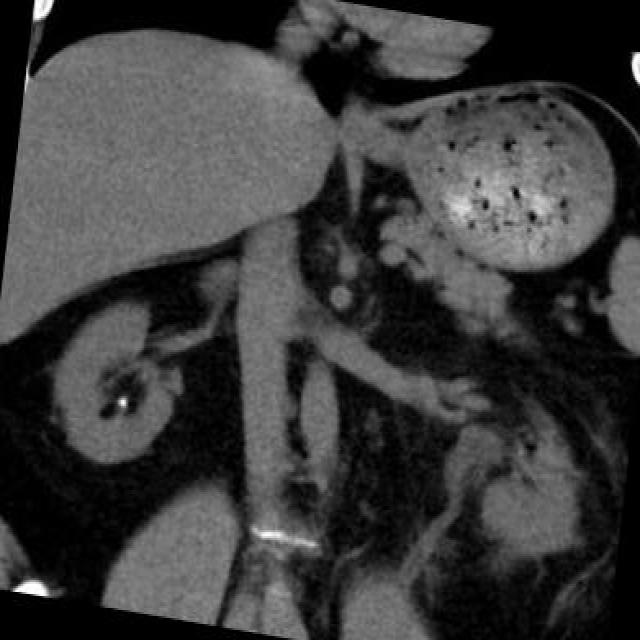Tas_Var: (114, 391, 130, 409)
